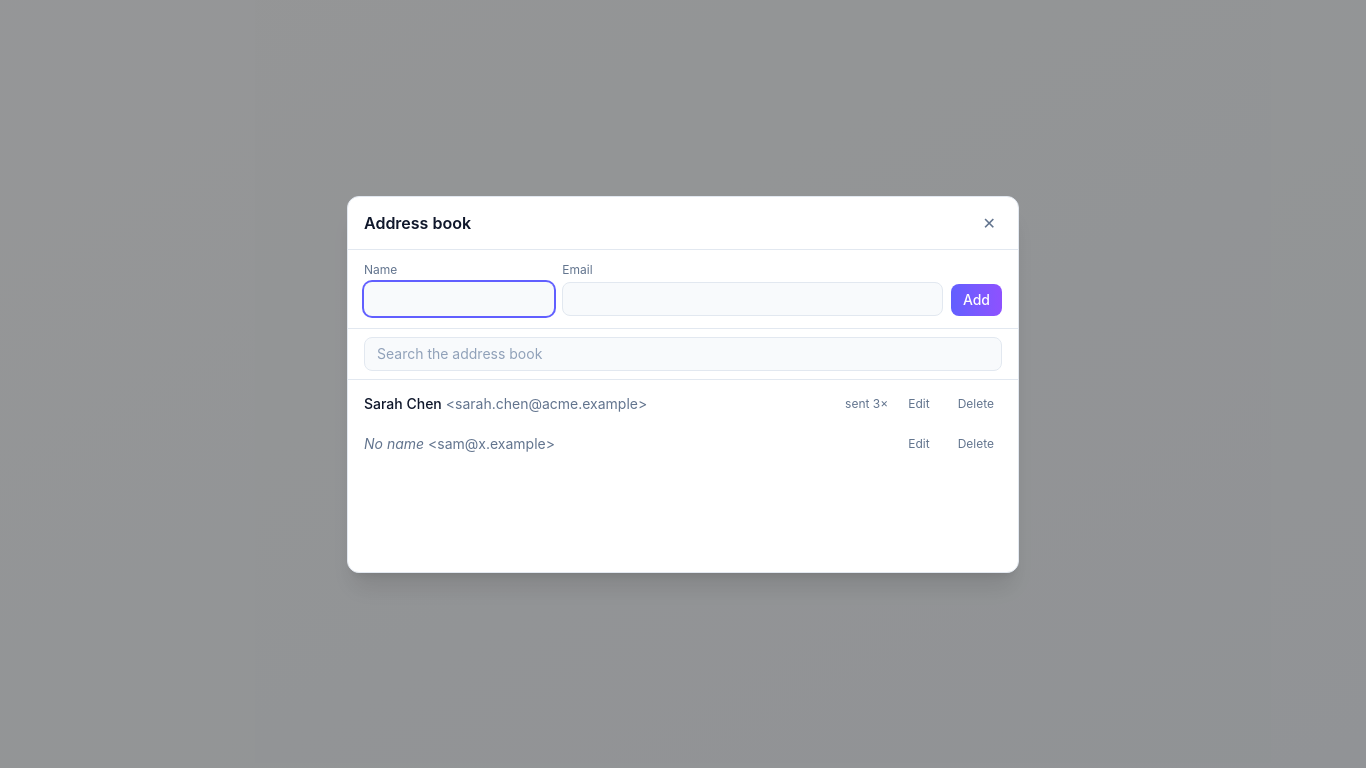
Test: AddressBookDialog › adds an entry and clears the form
The width and height of the screenshot is (1366, 768).
Check: the list named "Contacts" is shown, box [348,384,1018,464]
Type "Dana Lee" into the field labelled "Name". click: point(459, 298)
box: [364,282,554,316]
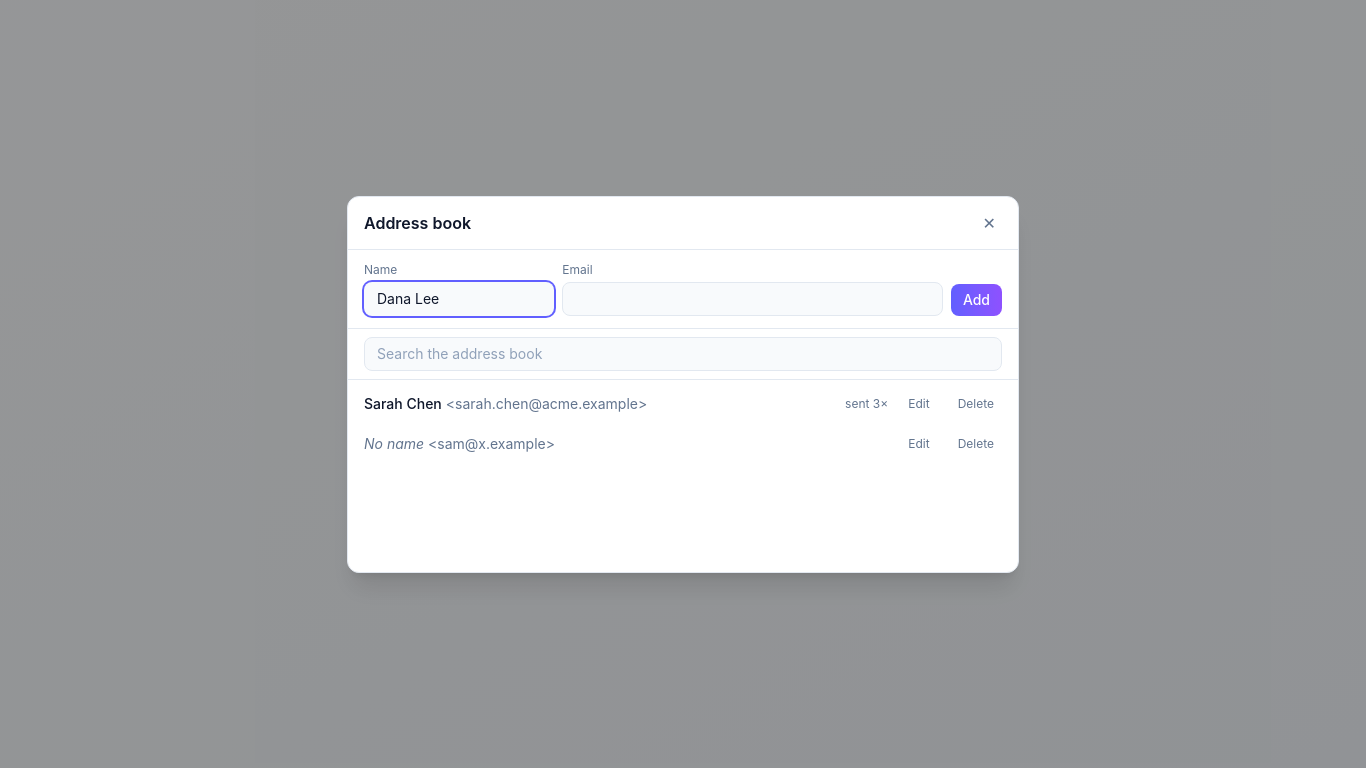
Type "dana@x.example" into the field labelled "Email". click: point(753, 298)
box: [562,282,943,316]
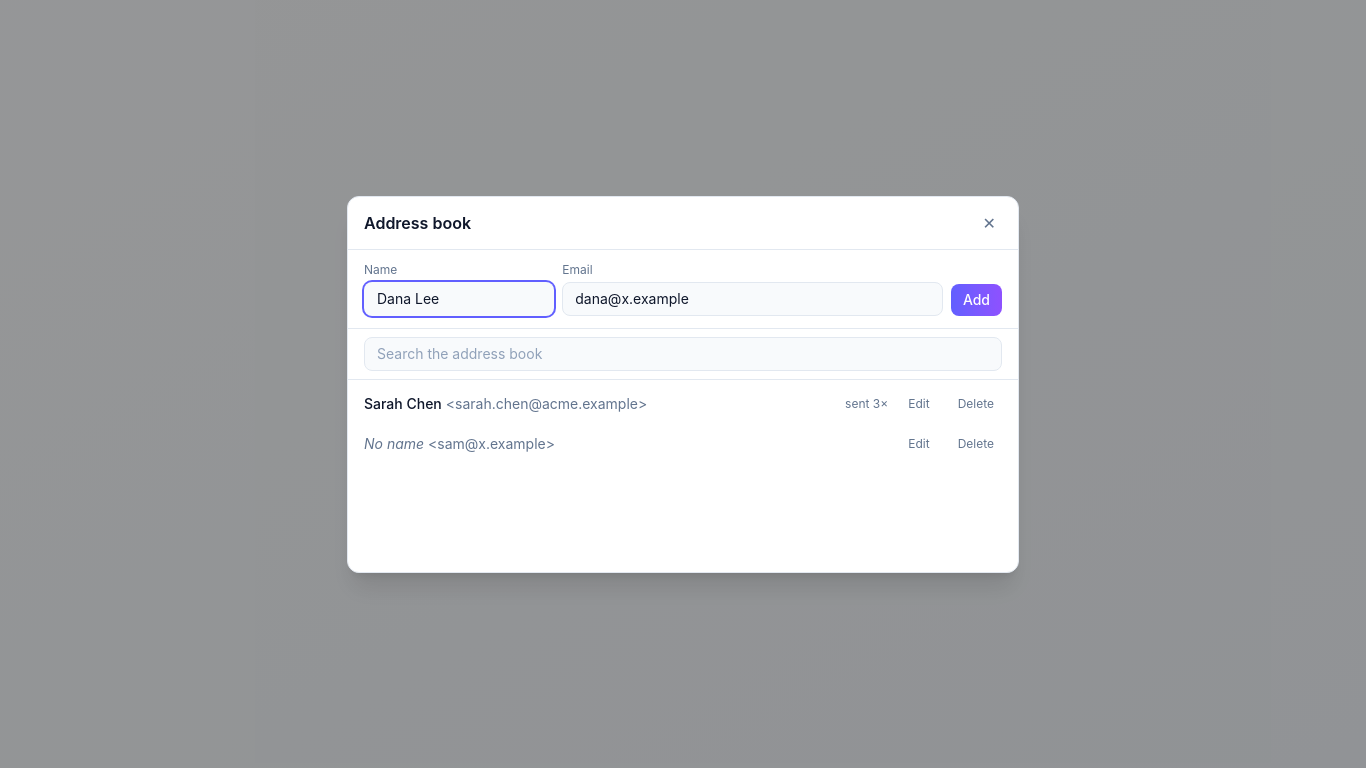
Click the button "Add". click: point(976, 300)
box: [951,284,1002,316]
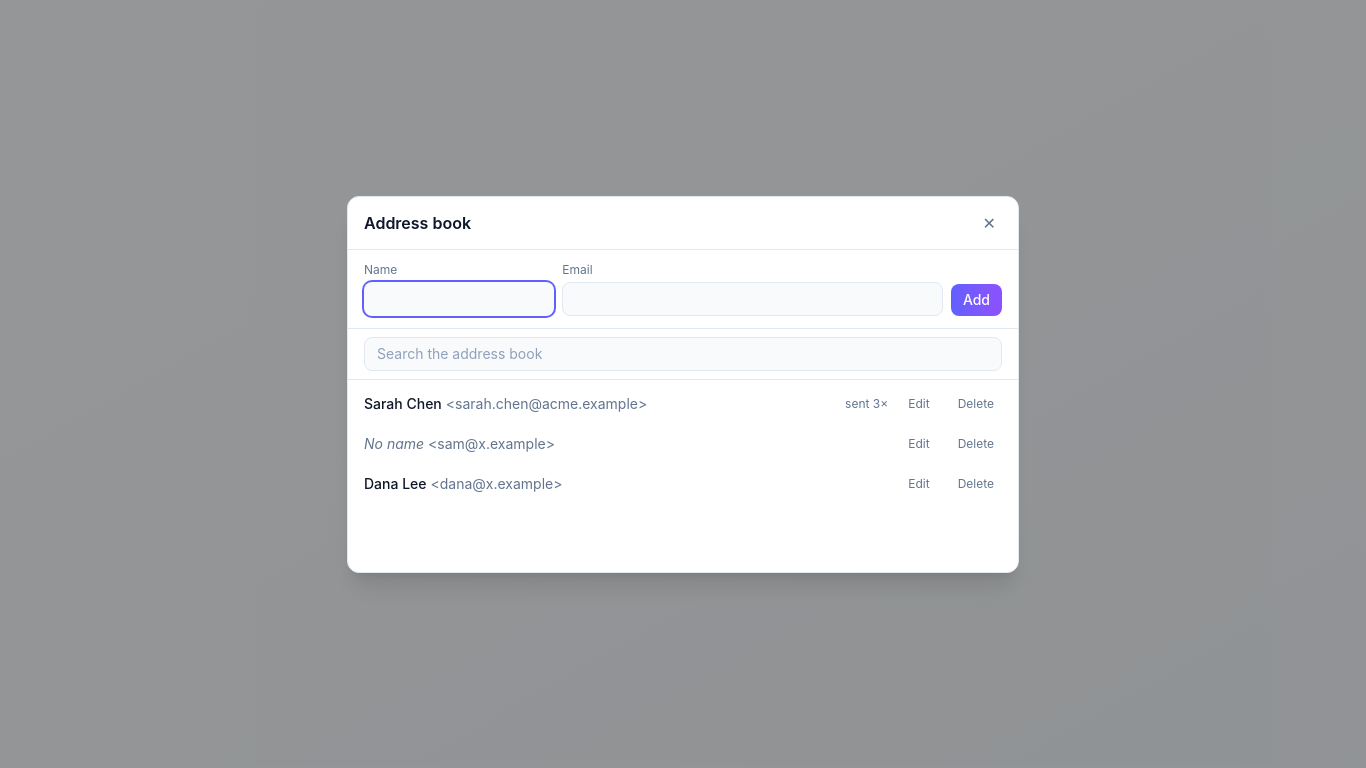
Check: the number of list items is 3, box [348,384,1018,424]; [348,424,1018,464]; [348,464,1018,504]
Check: the field labelled "Email" is empty, box [562,282,943,316]
